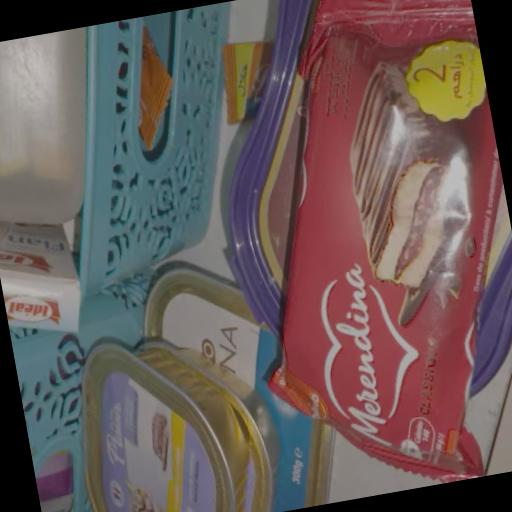merendina: (228, 0, 512, 495)
